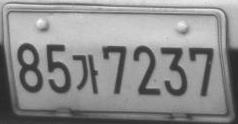2: (132, 44, 160, 95)
3: (161, 46, 188, 96)
5: (45, 43, 71, 93)
7: (188, 46, 214, 97), (101, 45, 127, 94)
8: (16, 42, 44, 93)
가: (72, 54, 99, 94)
